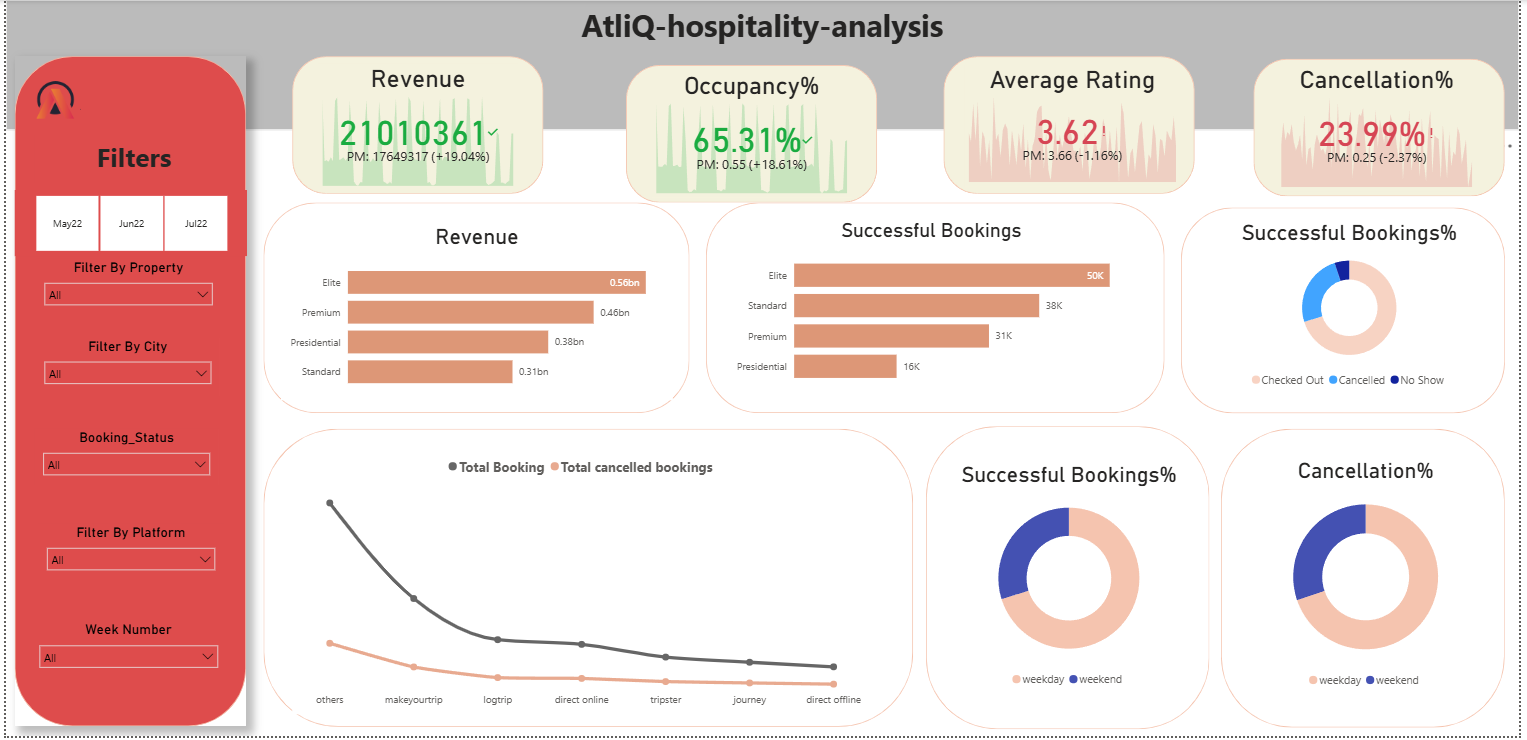

Layout of this report page (visuals, bound fields, positions):
{"tool":"powerbi","page":{"name":"Home","canvas":[1600,720],"ordinal":3},"visuals":[{"type":"shape","box":[0,0,447.5,91.2],"z":0},{"type":"slicer","title":"Filter By City","fields":{"Values":["dim_hotels.city"]},"box":[15,12.5,208.8,65],"z":1000},{"type":"slicer","title":"Filter By Room Class","fields":{"Values":["dim_rooms.room_class"]},"box":[226.2,13.8,202.5,63.8],"z":2000},{"type":"shape","box":[447.5,1.2,832.5,90],"z":3000},{"type":"slicer","fields":{"Values":["dim_date.mmm yy"]},"box":[460,13.8,266.2,67.5],"z":4000},{"type":"slicer","fields":{"Values":["dim_date.week no"]},"box":[712.5,13.8,558.8,63.8],"z":5000},{"type":"shape","box":[0,91.7,452.4,436.6],"z":6000},{"type":"tableEx","fields":{"Values":["key_measures (2).Revenue WoW change %"]},"box":[192,291,79.5,56.3],"z":7000},{"type":"tableEx","fields":{"Values":["key_measures (2).Revenue WoW change %"]},"box":[53.8,291,79.5,56.3],"z":8000},{"type":"tableEx","fields":{"Values":["key_measures (2).Revenue WoW change %"]},"box":[327.7,173.6,79.5,56.3],"z":9000},{"type":"tableEx","fields":{"Values":["key_measures (2).Revenue WoW change %"]},"box":[203,167.5,79.5,56.3],"z":10000},{"type":"tableEx","fields":{"Values":["key_measures (2).Revenue WoW change %"]},"box":[63.6,167.5,79.5,56.3],"z":11000},{"type":"cardVisual","title":"Revenue","fields":{"Data":["key_measures (2).Revenue"]},"box":[17.1,105.2,174.9,90.5],"z":12000},{"type":"cardVisual","title":"RevPAR","fields":{"Data":["key_measures (2).RevPAR"]},"box":[170,105.2,145.5,92.9],"z":13000},{"type":"cardVisual","title":"DSRN","fields":{"Data":["key_measures (2).DSRN"]},"box":[291,108.8,140.6,92.9],"z":14000},{"type":"cardVisual","title":"Occupancy%","fields":{"Data":["key_measures (2).Occupancy %"]},"box":[12.2,229.9,163.9,89.3],"z":15000},{"type":"cardVisual","title":"ADR","fields":{"Data":["key_measures (2).ADR"]},"box":[146.7,223.8,159,95.4],"z":16000},{"type":"tableEx","fields":{"Values":["key_measures (2).Revenue WoW change %"]},"box":[327.7,291,79.5,56.3],"z":17000},{"type":"cardVisual","title":"Realisation %","fields":{"Data":["key_measures (2).Realisation %"]},"box":[270.2,223.8,161.4,95.4],"z":18000},{"type":"textbox","box":[69.7,347.3,298.4,30.6],"z":19000},{"type":"shape","box":[31.8,302,402.3,150.4],"z":20000},{"type":"shape","box":[31.8,382.7,375.4,138.2],"z":21000},{"type":"shape","box":[452.4,105.2,348.5,222.6],"z":22000},{"type":"shape","box":[452.4,337.5,827.9,344.8],"z":23000},{"type":"tableEx","title":"Property By Key Metrics","fields":{"Values":["dim_hotels.property_id","dim_hotels.property_name","dim_hotels.city","key_measures (2).Revenue","key_measures (2).RevPAR","key_measures (2).Occupancy %","key_measures (2).ADR","key_measures (2).DSRN","key_measures (2).DBRN","key_measures (2).DURN","key_measures (2).Realisation %","key_measures (2).Cancellation %"]},"box":[468.3,347.3,797.3,309.4],"z":24000},{"type":"tableEx","fields":{"Values":["dim_date.day_type","key_measures (2).RevPAR","key_measures (2).Occupancy %","key_measures (2).ADR","key_measures (2).Realisation %"]},"box":[36.7,396.2,366.8,113.7],"z":25000},{"type":"shape","box":[0,528.3,452.4,151.6],"z":26000},{"type":"lineStackedColumnComboChart","fields":{"Category":["fact_bookings.booking_platform"],"Y2":["key_measures (2).ADR"],"Y":["key_measures (2).Realisation %"]},"box":[37.9,536.8,369.3,134.5],"z":27000},{"type":"donutChart","title":"% Revenue By Category","fields":{"Category":["dim_hotels.category"],"Y":["key_measures (2).Revenue"]},"box":[494,118.6,259.2,200.5],"z":28000},{"type":"shape","box":[801,105,479,223],"z":29000},{"type":"lineChart","title":"Trend By Key Metrics","fields":{"Category":["dim_date.mmm yy.Variation.Date Hierarchy.Month","dim_date.week no"],"Y":["key_measures (2).RevPAR","key_measures (2).ADR"],"Y2":["key_measures (2).Occupancy %"]},"box":[832.7,113.7,417,196.9],"z":30000},{"type":"textbox","box":[150,682.8,977.2,29],"z":31000},{"type":"actionButton","box":[1491.3,0,91.6,106.1],"z":31001}]}

Visuals, with their boxes on the page's 1600x720 design canvas (x1, y1, x2, y2). These are canvas units, not pixel positions in the 1527x740 screenshot, which may show the page scaled, cropped or inside an application window:
shape: 0 0 448 91
"Filter By City" slicer: 15 12 224 78
"Filter By Room Class" slicer: 226 14 429 78
shape: 448 1 1280 91
slicer - dim_date.mmm yy: 460 14 726 81
slicer - dim_date.week no: 712 14 1271 78
shape: 0 92 452 528
tableEx - key_measures (2).Revenue WoW change %: 192 291 272 347
tableEx - key_measures (2).Revenue WoW change %: 54 291 133 347
tableEx - key_measures (2).Revenue WoW change %: 328 174 407 230
tableEx - key_measures (2).Revenue WoW change %: 203 168 282 224
tableEx - key_measures (2).Revenue WoW change %: 64 168 143 224
"Revenue" cardVisual: 17 105 192 196
"RevPAR" cardVisual: 170 105 316 198
"DSRN" cardVisual: 291 109 432 202
"Occupancy%" cardVisual: 12 230 176 319
"ADR" cardVisual: 147 224 306 319
tableEx - key_measures (2).Revenue WoW change %: 328 291 407 347
"Realisation %" cardVisual: 270 224 432 319
textbox: 70 347 368 378
shape: 32 302 434 452
shape: 32 383 407 521
shape: 452 105 801 328
shape: 452 338 1280 682
"Property By Key Metrics" tableEx: 468 347 1266 657
tableEx - dim_date.day_type x key_measures (2).RevPAR: 37 396 404 510
shape: 0 528 452 680
lineStackedColumnComboChart - fact_bookings.booking_platform x key_measures (2).ADR: 38 537 407 671
"% Revenue By Category" donutChart: 494 119 753 319
shape: 801 105 1280 328
"Trend By Key Metrics" lineChart: 833 114 1250 311
textbox: 150 683 1127 712
actionButton: 1491 0 1583 106
